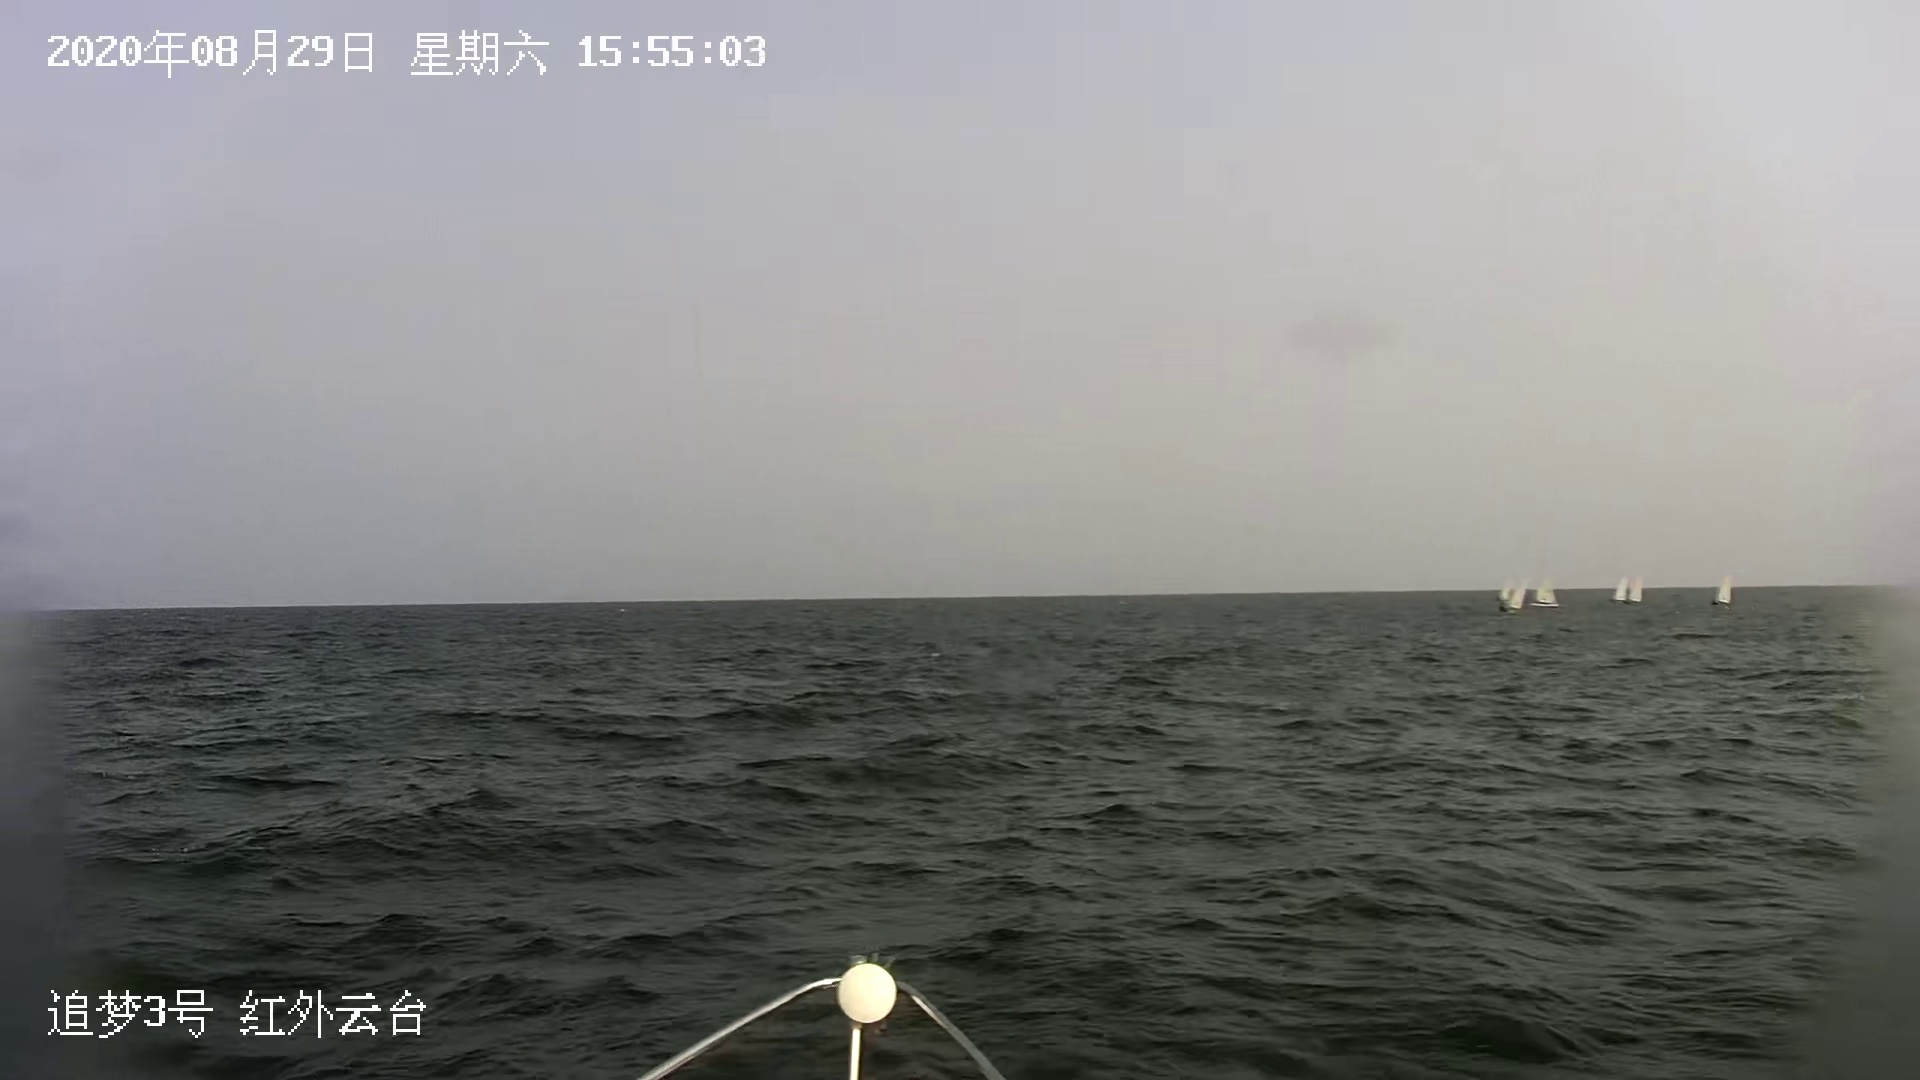barrier: (1503, 580, 1527, 615), (1535, 576, 1560, 607), (1716, 576, 1734, 607), (1627, 574, 1643, 603), (1613, 576, 1627, 604), (1499, 578, 1513, 601)
